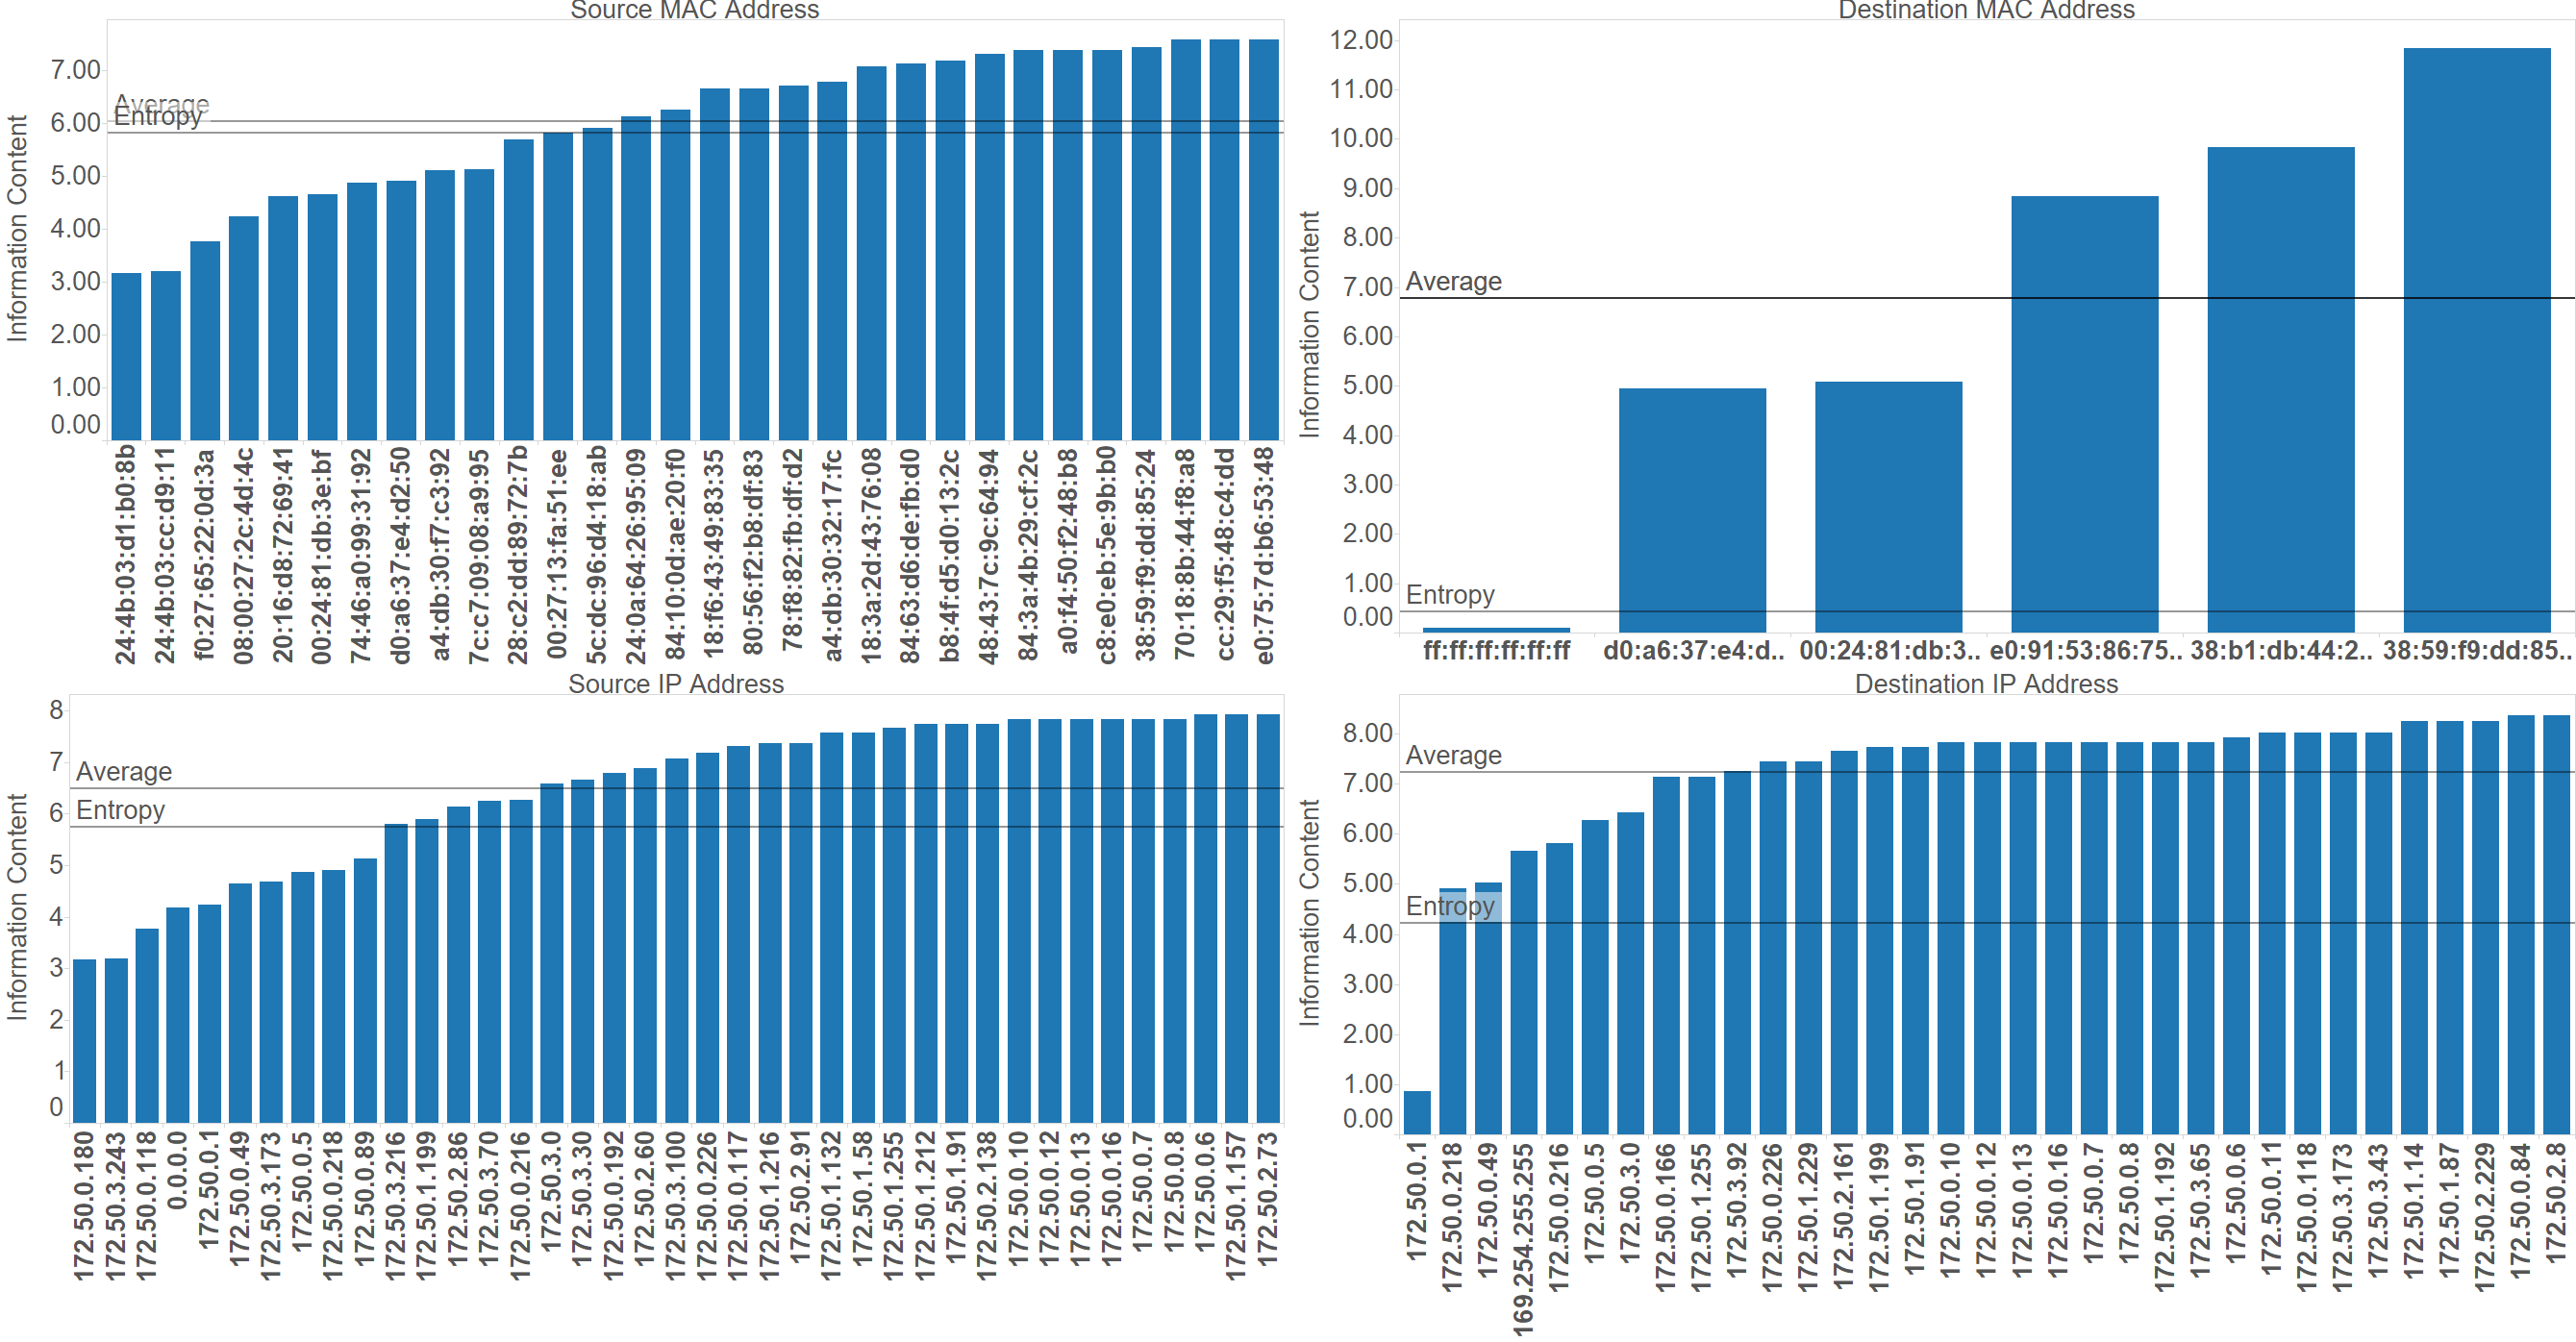

The page's visual inventory and layout, read from the dashboard file:
{"tool":"tableau","page":{"name":"PDFs Dashboard","canvas":[1000,1000],"units":"permille","ordinal":1},"visuals":[{"type":"worksheet","title":"Source MAC PDF","mark":"Automatic","rows":["Calculation_558446359774420994"],"cols":["hwsrc"],"box":[0,0,500,500]},{"type":"worksheet","title":"Destination MAC PDF","mark":"Automatic","rows":["Calculation_558446359774584835"],"cols":["hwdst"],"box":[500,0,500,500]},{"type":"worksheet","title":"Source IP PDF","mark":"Automatic","rows":["Calculation_558446359785705483"],"cols":["ipsrc"],"box":[0,500,500,500]},{"type":"worksheet","title":"Destination IP PDF","mark":"Automatic","rows":["Calculation_558446359774961669"],"cols":["ipdst"],"box":[500,500,500,500]}]}

Visuals, with their boxes on the dashboard's canvas, which has no fixed pixel size, in thousandths of its width and height (x1, y1, x2, y2). These are canvas units, not pixel positions in the 2576x1342 screenshot, which may show the page scaled, cropped or inside an application window:
"Source MAC PDF" worksheet: bbox(0, 0, 500, 500)
"Destination MAC PDF" worksheet: bbox(500, 0, 1000, 500)
"Source IP PDF" worksheet: bbox(0, 500, 500, 1000)
"Destination IP PDF" worksheet: bbox(500, 500, 1000, 1000)
